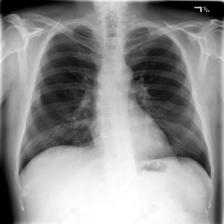normal: (15, 18, 216, 182)
